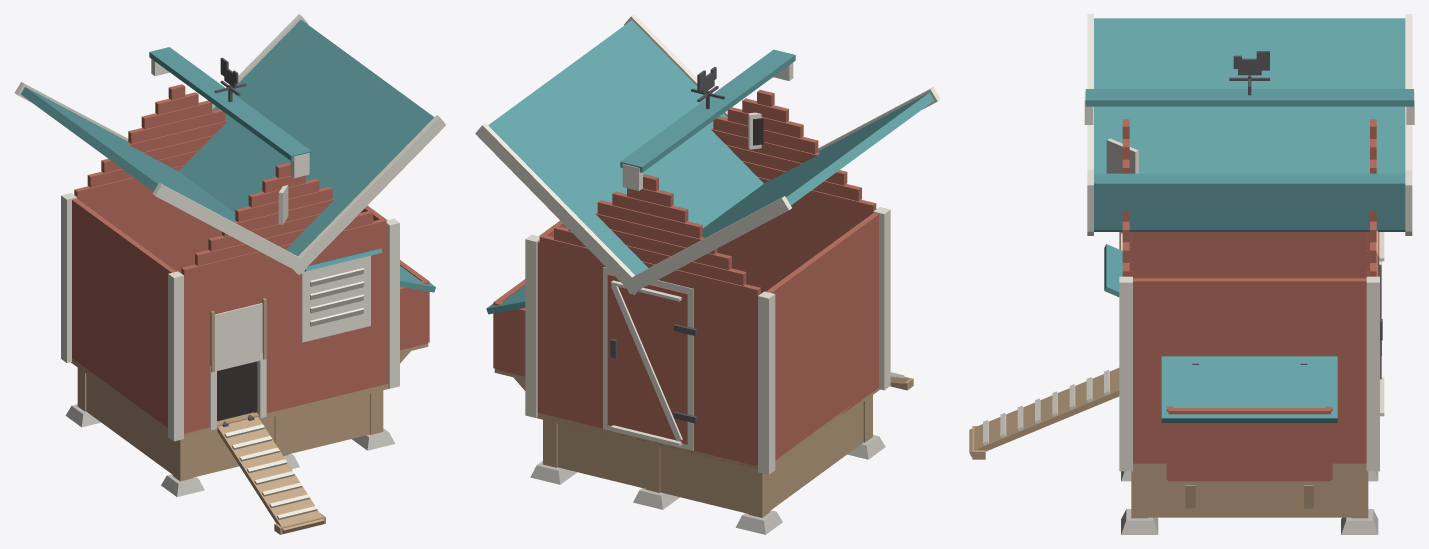
3 views of the same model, side by side, from view 1: azimuth 30°, elevation 25°; view 2: azimuth 150°, elevation 25°; view 3: azimuth 270°, elevation 25° (orthographic). The views are drawn at different scales.
Parts seen in each view (by area): view 1: RanchChickenCoop; view 2: RanchChickenCoop; view 3: RanchChickenCoop.
Boxes of the visible parts, bbox=[...] form: RanchChickenCoop: bbox=[14, 14, 445, 534]; RanchChickenCoop: bbox=[475, 14, 940, 534]; RanchChickenCoop: bbox=[969, 14, 1414, 534].
Size of the model in its own units: 2.47 by 2.75 by 2.63.
